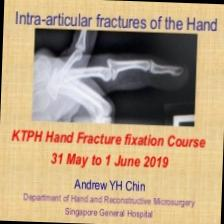intra-articular-fracture: (32, 28, 190, 127)
